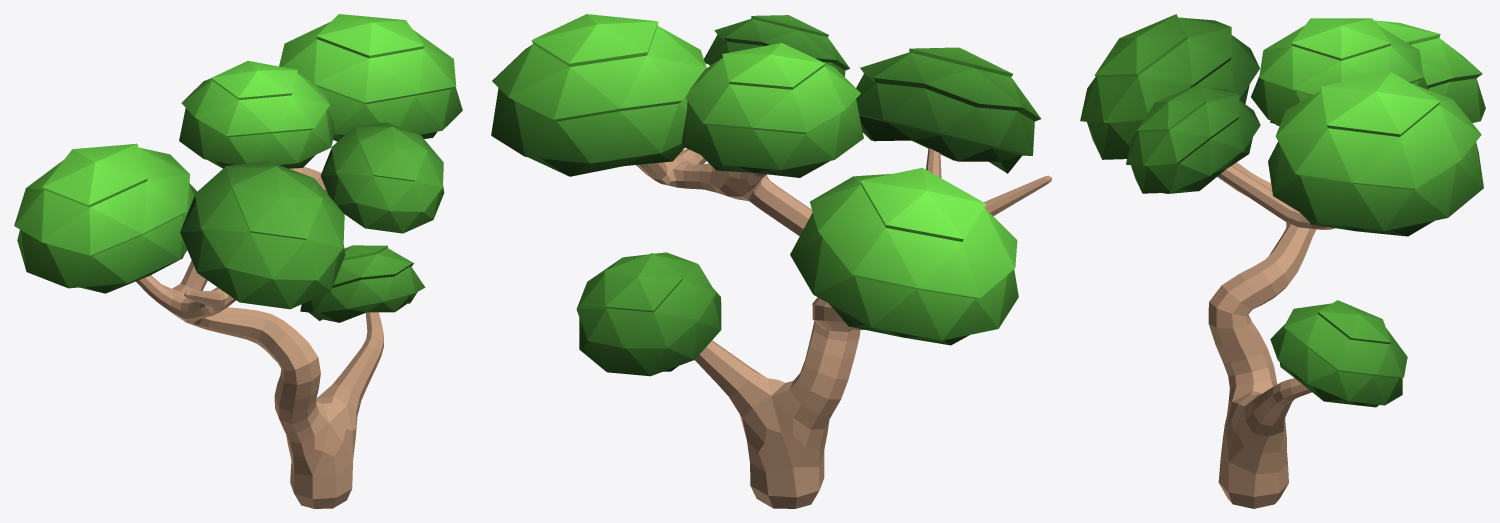
Rendered from New_Tree2.fbx.
3 renders of one model, left to right at view 1: azimuth 30°, elevation 25°; view 2: azimuth 150°, elevation 25°; view 3: azimuth 270°, elevation 25°, orthographic. The views are drawn at different scales.
Parts seen in each view (by area): view 1: Leaves.010, Leaves.007, Cube.001, Leaves.008, Leaves.006, Leaves.009, Leaves.011; view 2: Leaves.010, Leaves.008, Cube.001, Leaves.006, Leaves.007, Leaves.011, Leaves.009; view 3: Leaves.008, Cube.001, Leaves.007, Leaves.011, Leaves.009, Leaves.006, Leaves.010.
Boxes of the visible parts, <box> form: Leaves.010: <box>14,143,197,293</box>; Leaves.007: <box>180,161,345,309</box>; Cube.001: <box>136,167,383,508</box>; Leaves.008: <box>279,14,462,141</box>; Leaves.006: <box>179,60,334,168</box>; Leaves.009: <box>320,122,444,233</box>; Leaves.011: <box>300,245,425,322</box>; Leaves.010: <box>790,167,1018,345</box>; Leaves.008: <box>491,14,706,176</box>; Cube.001: <box>636,148,1051,508</box>; Leaves.006: <box>682,43,863,177</box>; Leaves.007: <box>856,47,1040,173</box>; Leaves.011: <box>576,252,721,376</box>; Leaves.009: <box>704,15,849,76</box>; Leaves.008: <box>1268,72,1483,236</box>; Cube.001: <box>1208,162,1334,508</box>; Leaves.007: <box>1080,14,1259,159</box>; Leaves.011: <box>1270,300,1407,407</box>; Leaves.009: <box>1126,84,1260,193</box>; Leaves.006: <box>1251,18,1428,125</box>; Leaves.010: <box>1270,20,1485,123</box>.
Size of the model in its own units: 397 by 378 by 296.
Materials: 2 (1 with a texture image).
